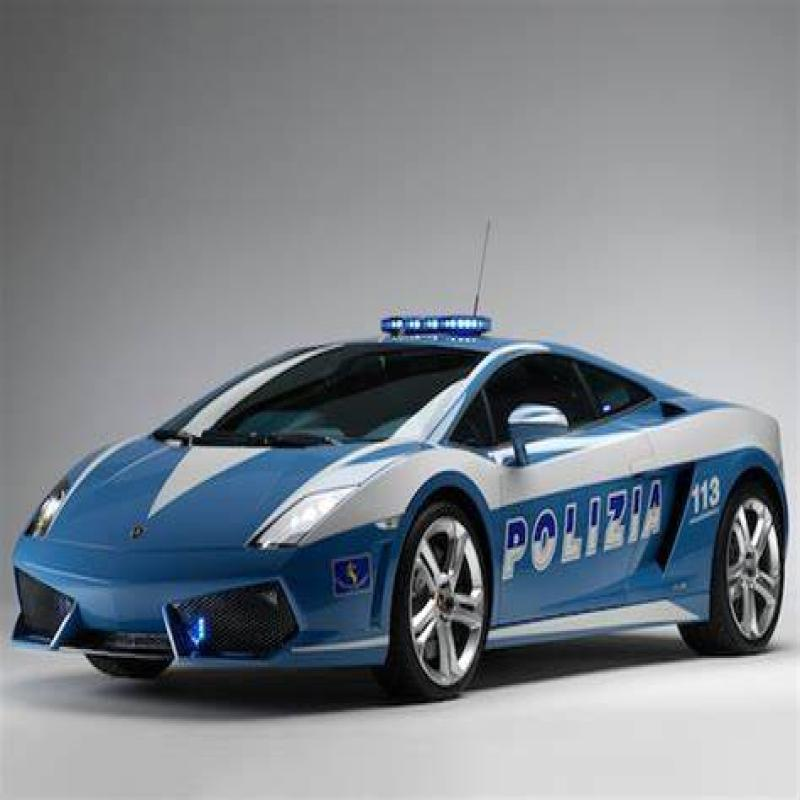AmbulanceSiren: (381, 294, 507, 344)
